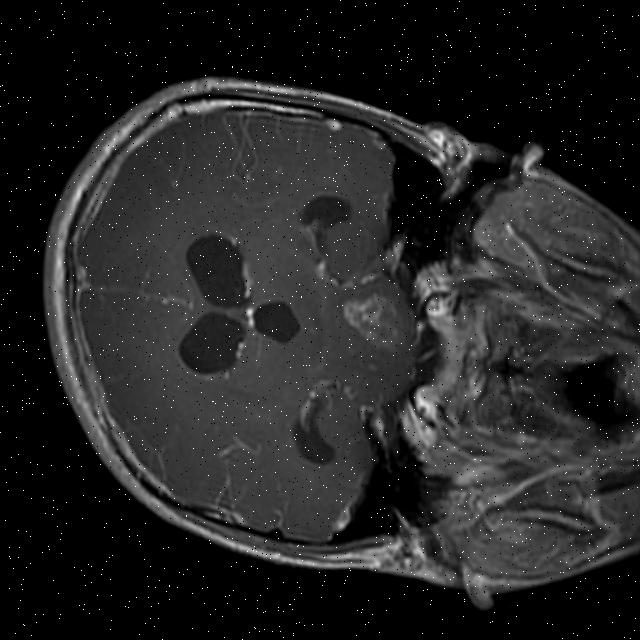Glioma: (334, 283, 411, 355)
